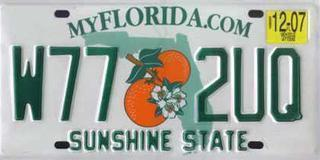placa de veiculo: (2, 0, 311, 160)
